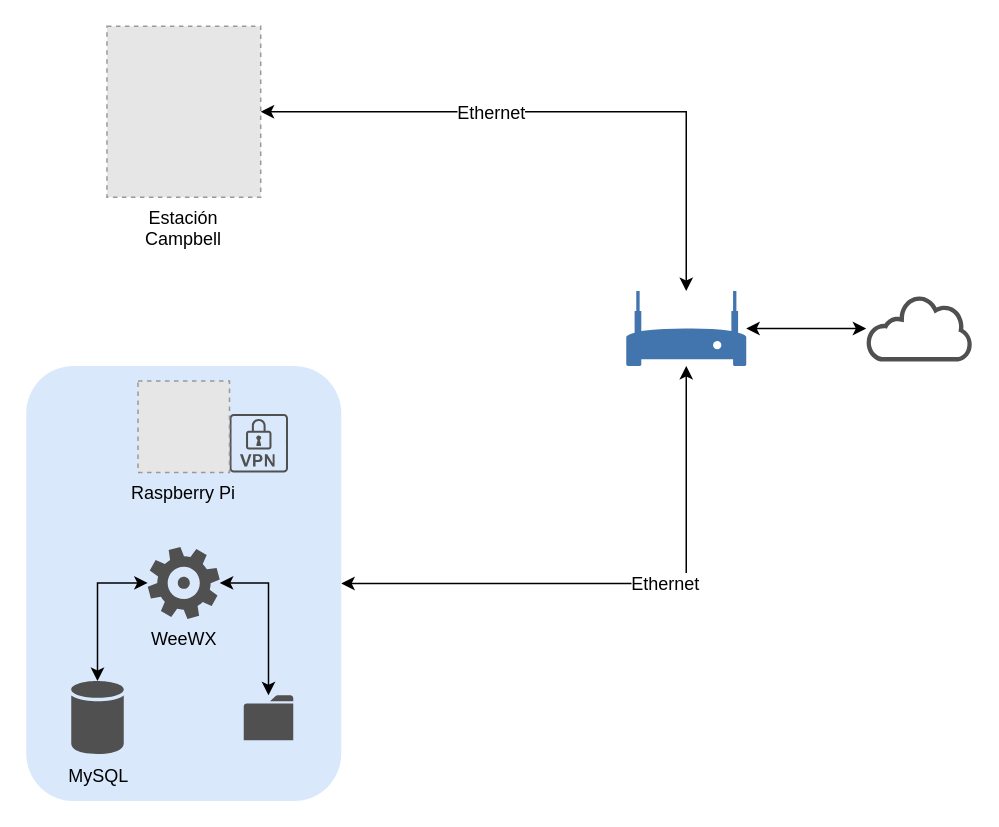
The diagram is 999 pixels wide and 827 high, and some of its shapes have lost their labels. Grey dashed boxes stand in for pictures. The shapes that lost their labels are listed below. From the top down, each one's box as (x1, y1, x2, y2) in pixels, then its label:
(866, 295, 973, 361): UACJ
(243, 694, 292, 740): Archivos web
